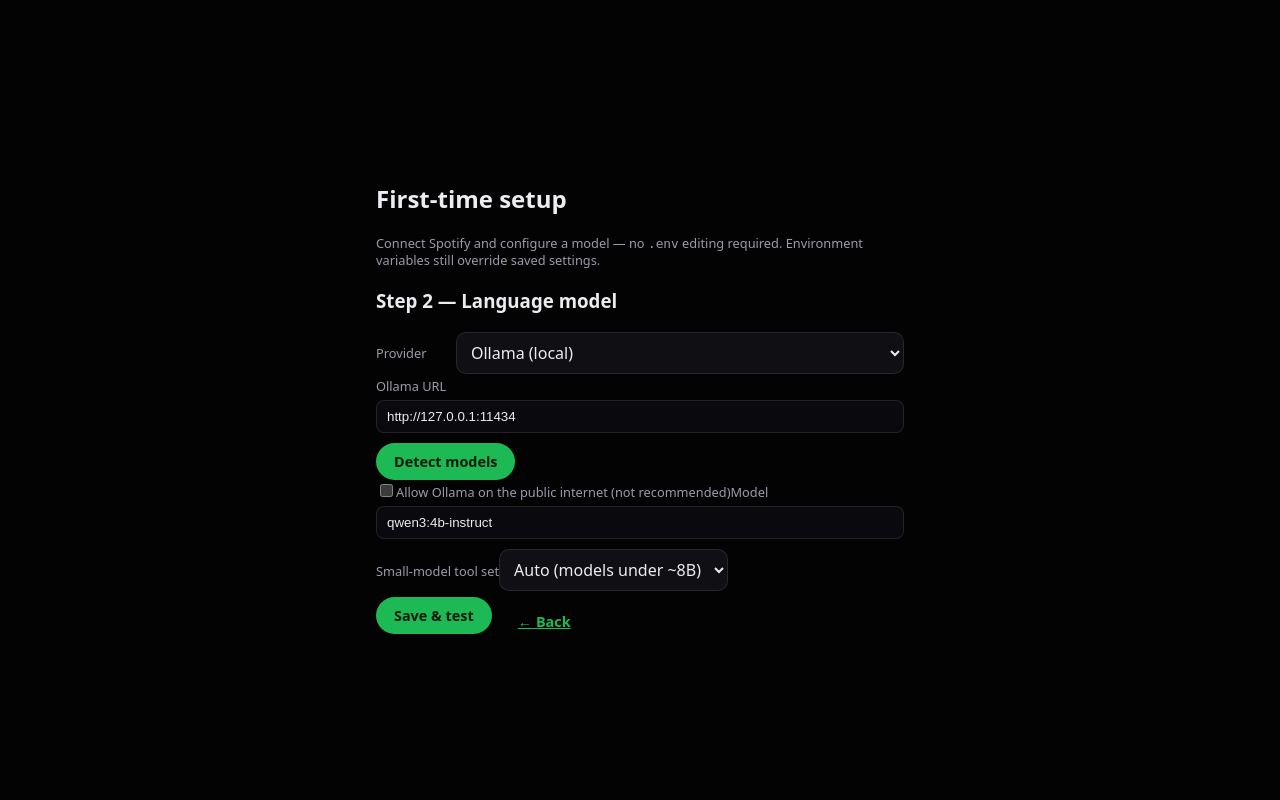
Test: r3_item06_setup_wizard_save_preserves_step › keeps step 2 and shows saved notice after Save & test
Expected: the heading "Step 2 — Language model" is shown, 376,288 -> 617,313
Click the button "Save & test": click(434, 615) 376,597 -> 492,634
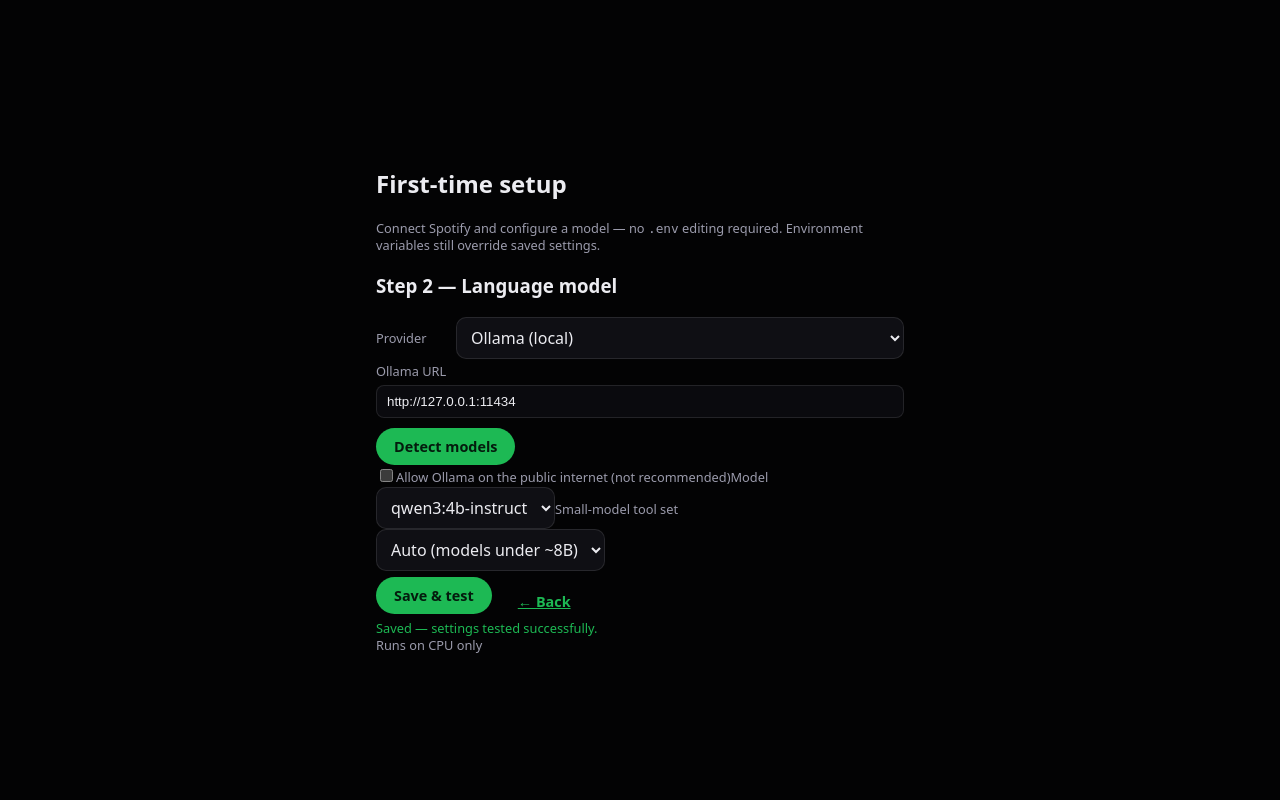
Expected: the heading "Step 2 — Language model" is shown, 376,273 -> 617,298
Now the text "Saved — settings tested successfully." is shown, box 376,619 -> 598,637
Now the text "Runs on CPU only" is shown, box 376,636 -> 482,654
